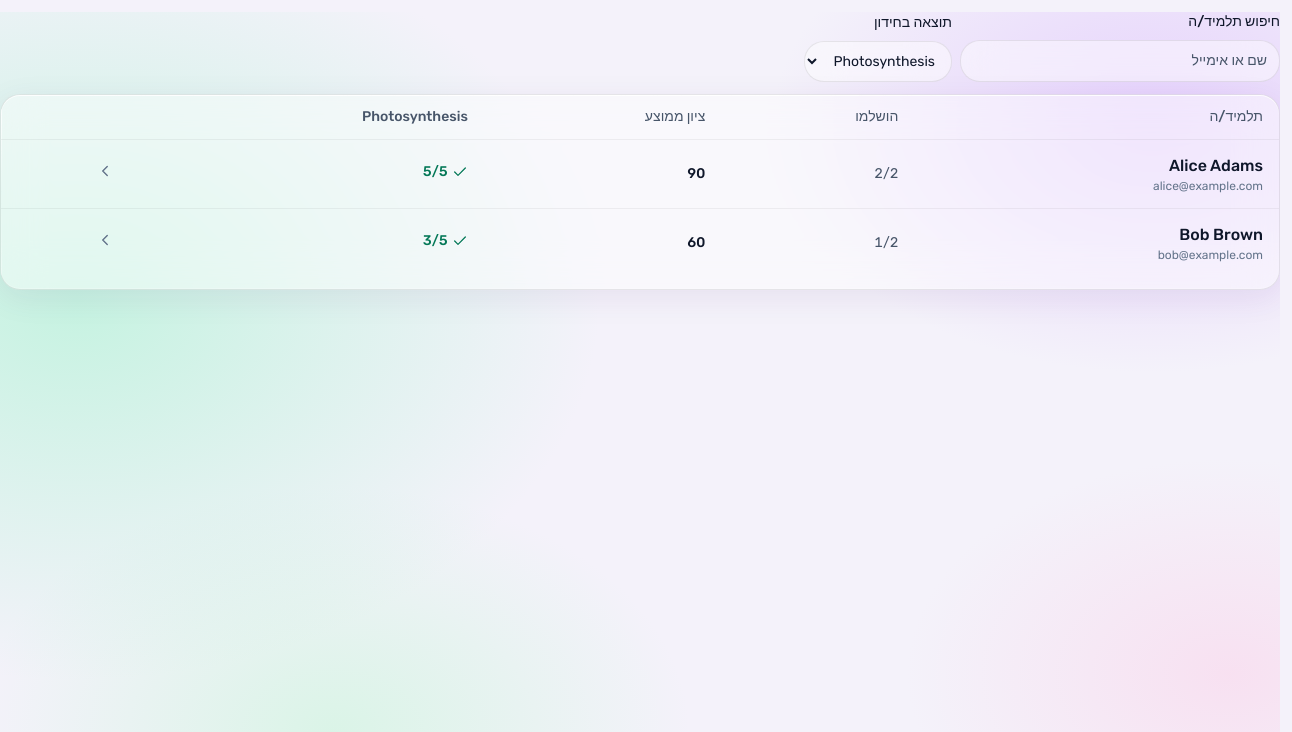
RosterTable (class analytics) › swaps the column to the picked quiz
This screenshot has width=1292, height=732.
Select "Respiration" in the dropdown labelled "תוצאה בחידון" at (878,62), box [804,41,952,82]
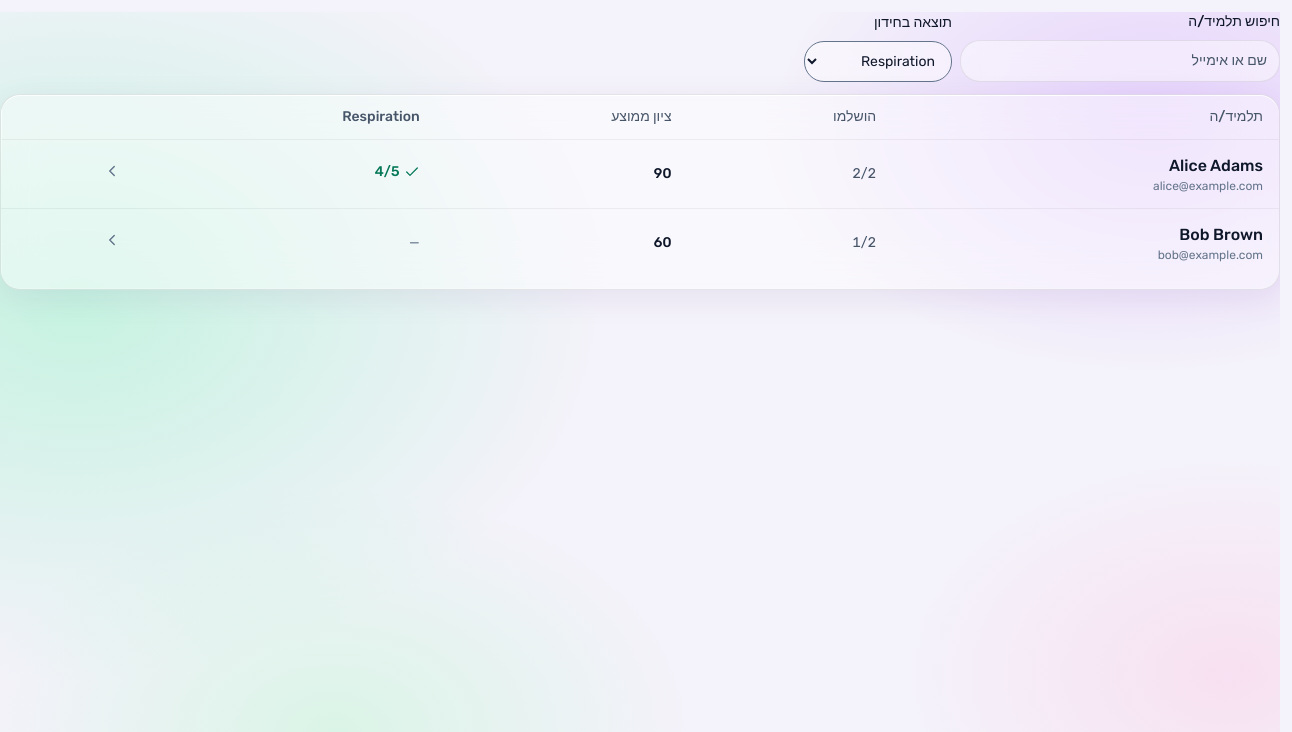
Check: the text "4/5" is shown, box [375,162,420,182]
Check: the text "3/5" is gone
